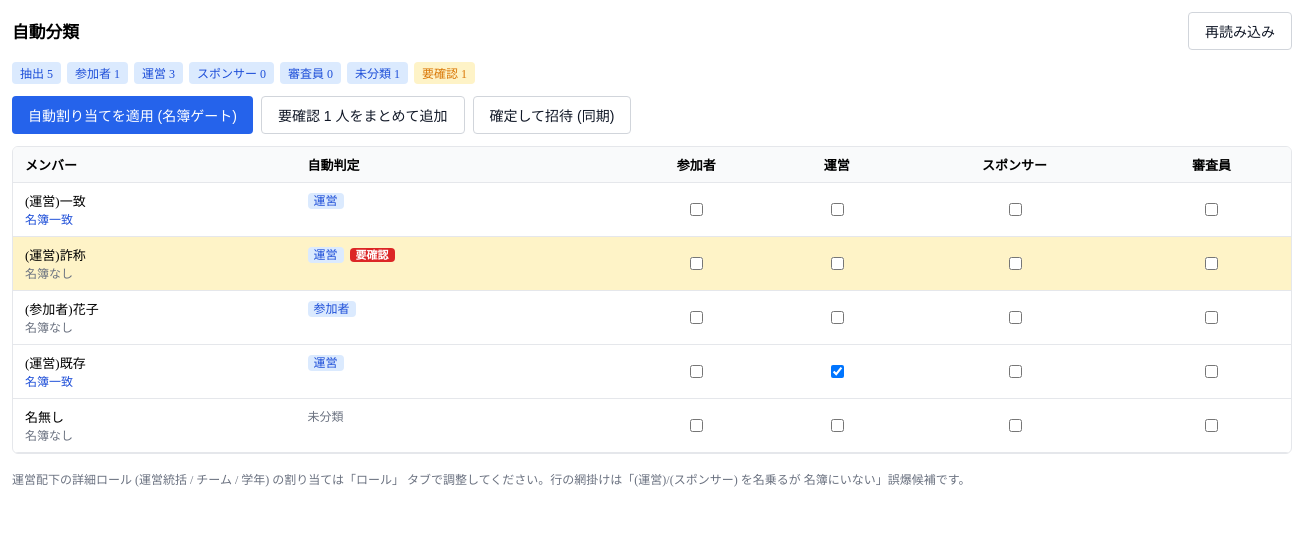
Test: AutoClassifyTab 自動割り当てのフィードバック › 押下で結果バナー (割当件数+内訳+スキップ理由) を出し addMembers を呼ぶ
This screenshot has width=1304, height=548.
Step 1. Click the button with test id "apply-auto-btn" → (132, 115), box [12,96,253,134]
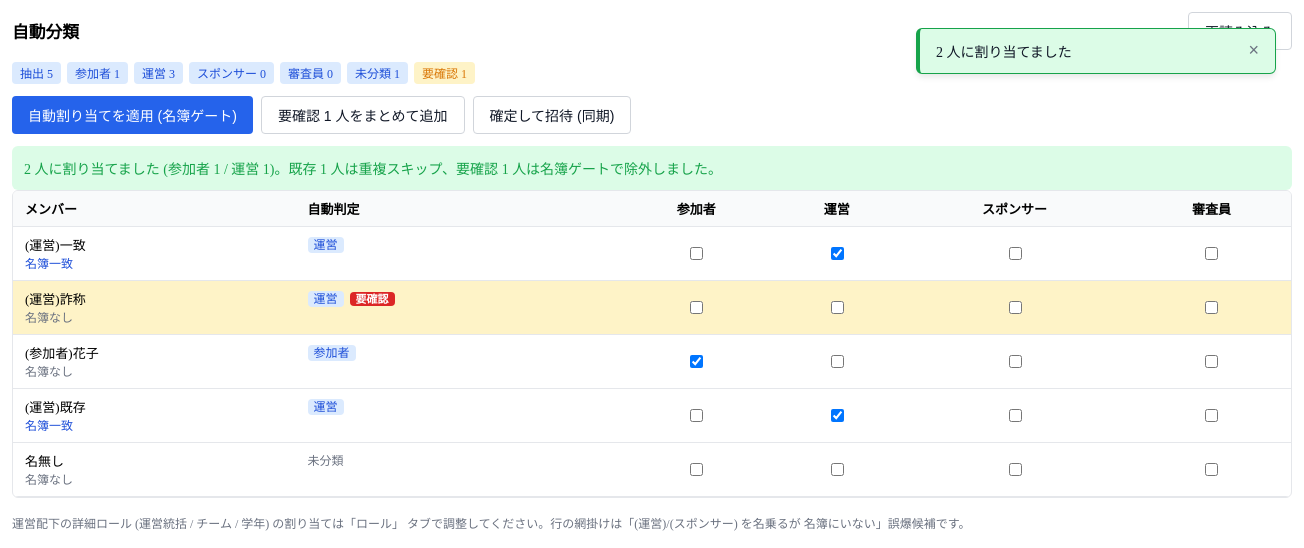
Check: the element with test id "apply-result" shows "2 人に割り当てました", box [12,146,1292,190]
Check: the element with test id "apply-result" shows "運営 1", box [168,162,270,177]
Check: the element with test id "apply-result" shows "参加者 1", box [168,162,270,177]
